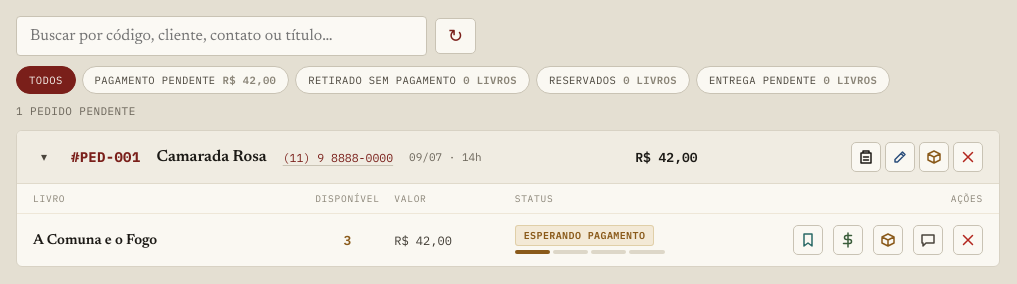
Backoffice — Pedidos (linhas por unidade) › desktop: card nasce aberto e clicar no header recolhe (some o conteúdo)
The width and height of the screenshot is (1017, 284).
Expected: the text "Camarada Rosa" is shown, [156,149,267,165]
Expected: the text "A Comuna e o Fogo" is shown, [33,232,157,248]
Click the row with class "order-card__header": (508, 158) [17,131,999,184]
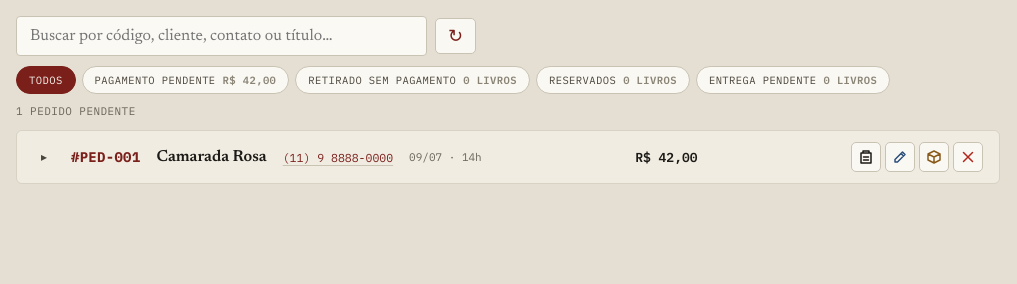
Expected: the text "Camarada Rosa" is shown, [156,149,267,165]
Expected: the text "A Comuna e o Fogo" is gone
Expected: the button named "expandir pedido" is collapsed, [33,151,55,163]
